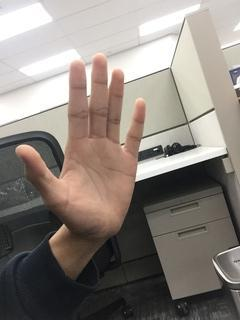hand: (13, 54, 150, 234)
